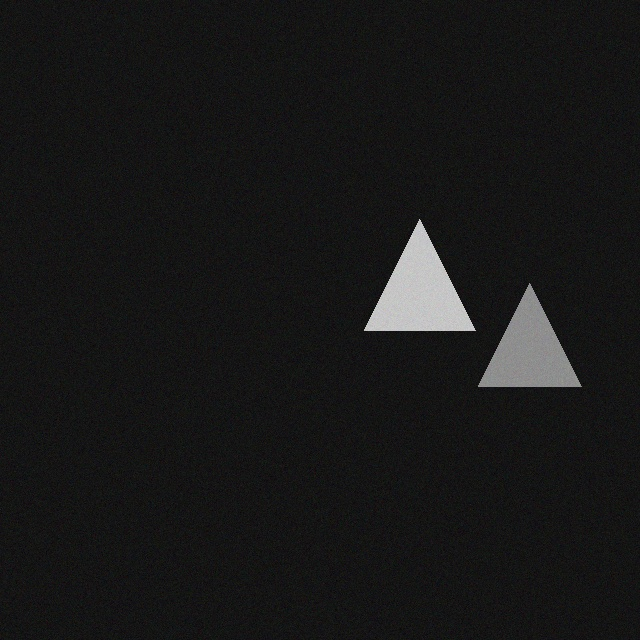triangle: (349, 215, 460, 326), (463, 279, 566, 382)
